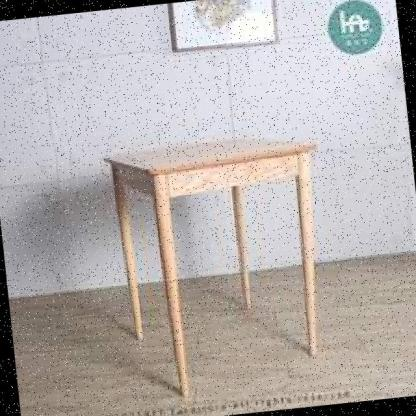Table: (90, 116, 340, 410)
